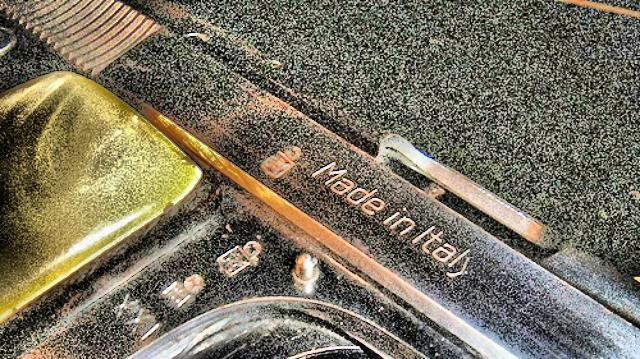pistol: (11, 1, 635, 349)
